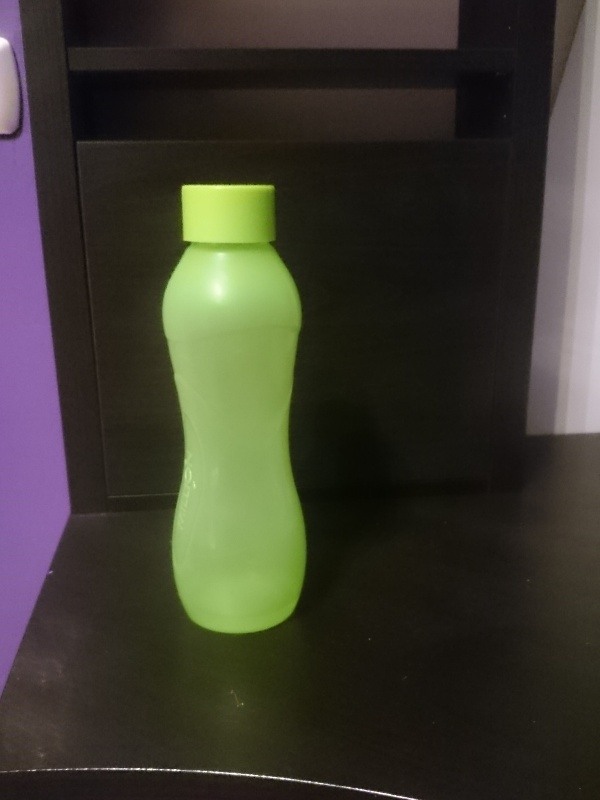my bottle: (162, 186, 307, 633)
